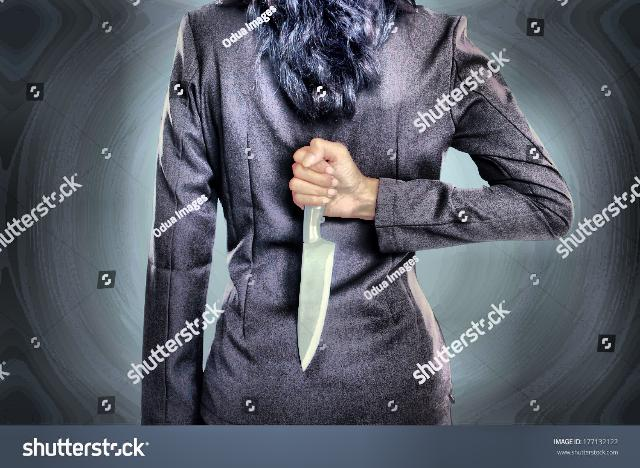knife: (287, 134, 339, 375)
